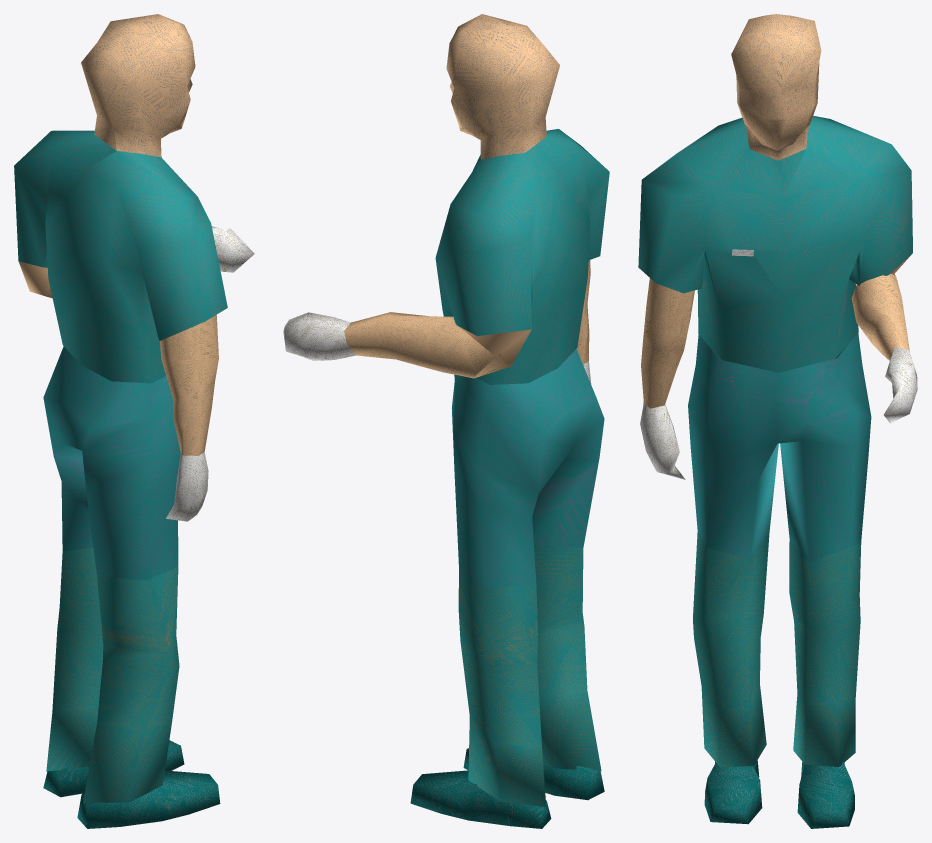
The model's file is doctor model.dae.
3 views of the same model, side by side, from view 1: azimuth 30°, elevation 25°; view 2: azimuth 150°, elevation 25°; view 3: azimuth 270°, elevation 25° (orthographic). The views are drawn at different scales.
Visible parts, largest first — view 1: _3D_Man_Standing (×11); view 2: _3D_Man_Standing (×11); view 3: _3D_Man_Standing (×11).
Boxes of the visible parts, <box> form: _3D_Man_Standing (×11): <box>14,14,254,828</box>; _3D_Man_Standing (×11): <box>283,14,609,828</box>; _3D_Man_Standing (×11): <box>638,14,917,828</box>.
Size of the model in its own units: 23.93 by 22.98 by 70.93.
